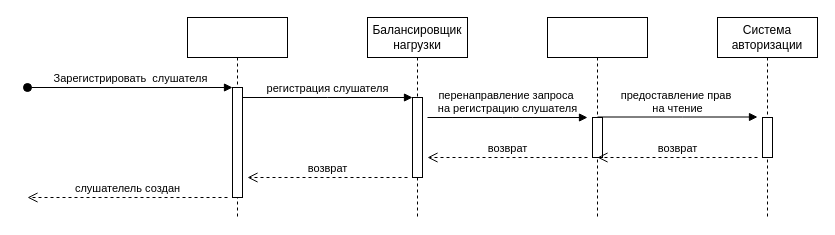
The diagram is 835 pixels wide and 235 high, and some of its shapes have lost their labels. The centre of each missing label's shape, as x and y in pixels:
Портал расписаний: point 237,117
Система пользователей: point 597,117
